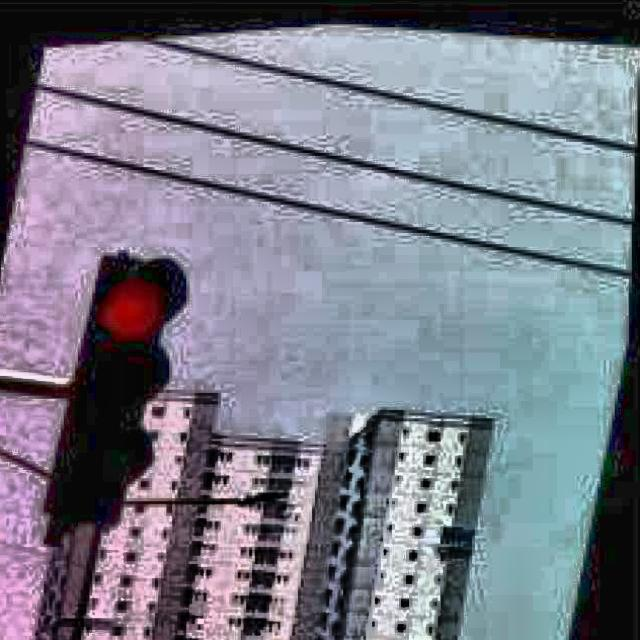red: (55, 250, 188, 523)
